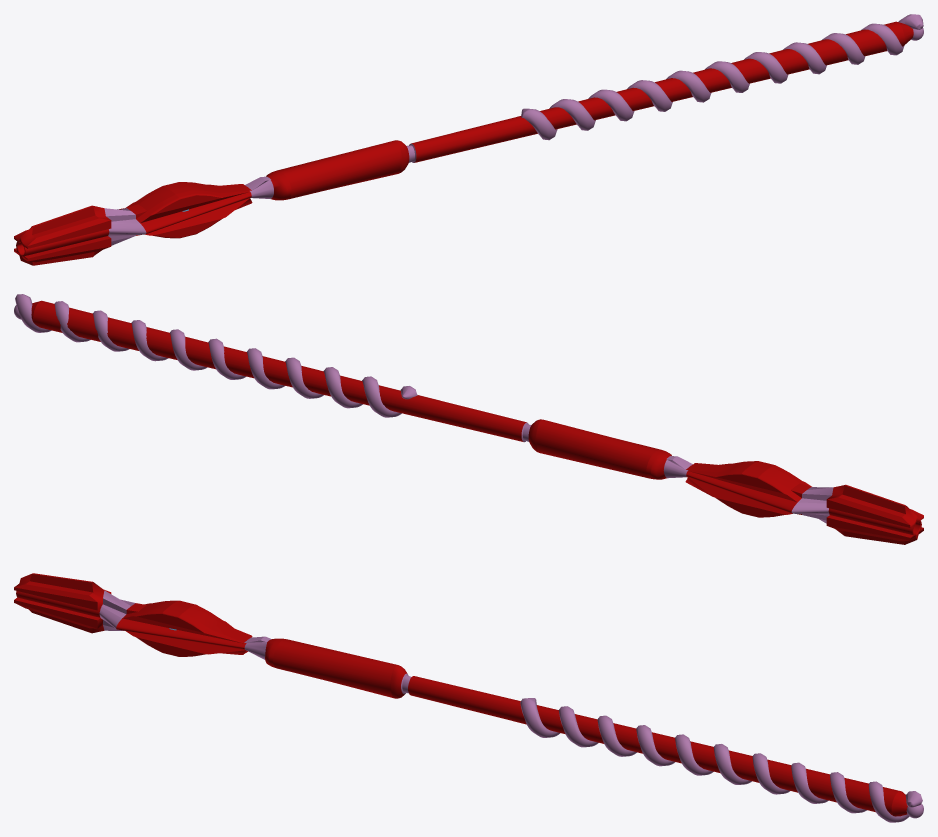
Rendered from beacon.fbx.
The picture shows the model from 3 angles, top to bottom: view 1: azimuth 30°, elevation 25°; view 2: azimuth 150°, elevation 25°; view 3: azimuth 330°, elevation 25°; orthographic projection.
Visible parts, largest first — view 1: Staff2; view 2: Staff2; view 3: Staff2.
Part boxes in pixels (x1,y1,x2,y2): Staff2: [14, 14, 923, 265]; Staff2: [14, 294, 923, 544]; Staff2: [14, 573, 923, 822].
Bounding box in the file's own units: 16 × 0.8668 × 0.933.
